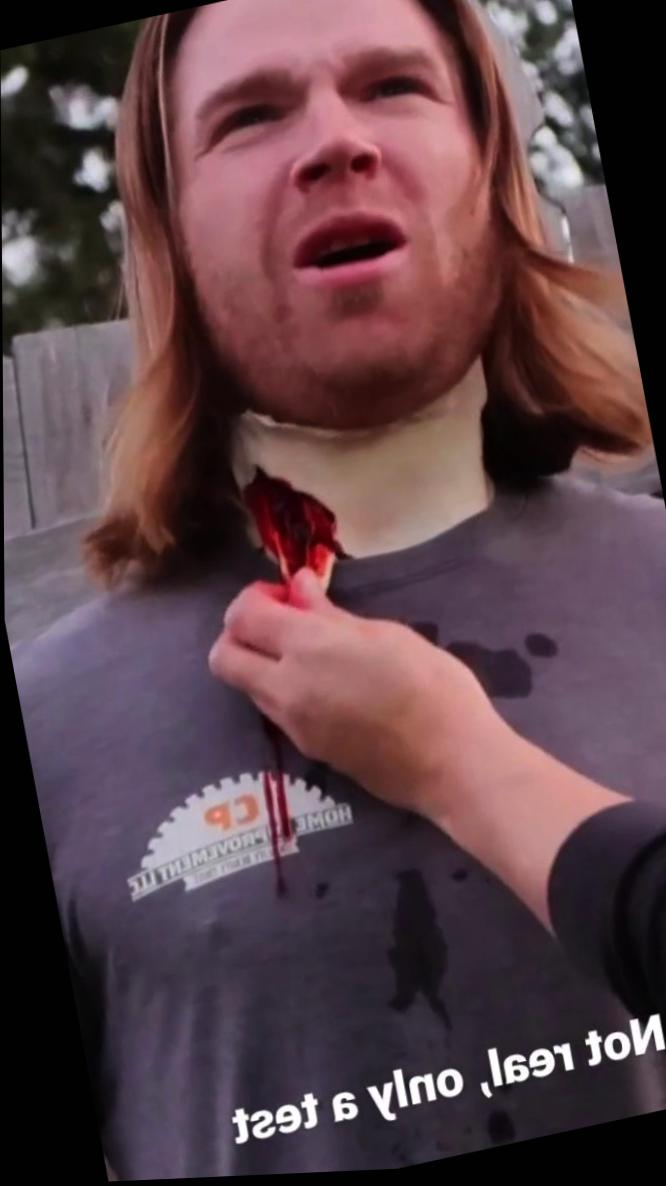Fire: (242, 471, 344, 592), (260, 718, 295, 900)
